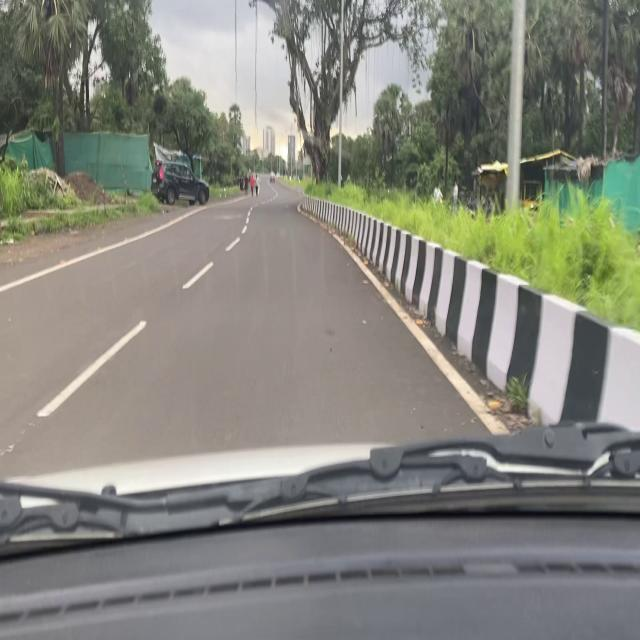lane: (29, 212, 275, 424), (306, 208, 515, 442), (1, 190, 244, 296)
